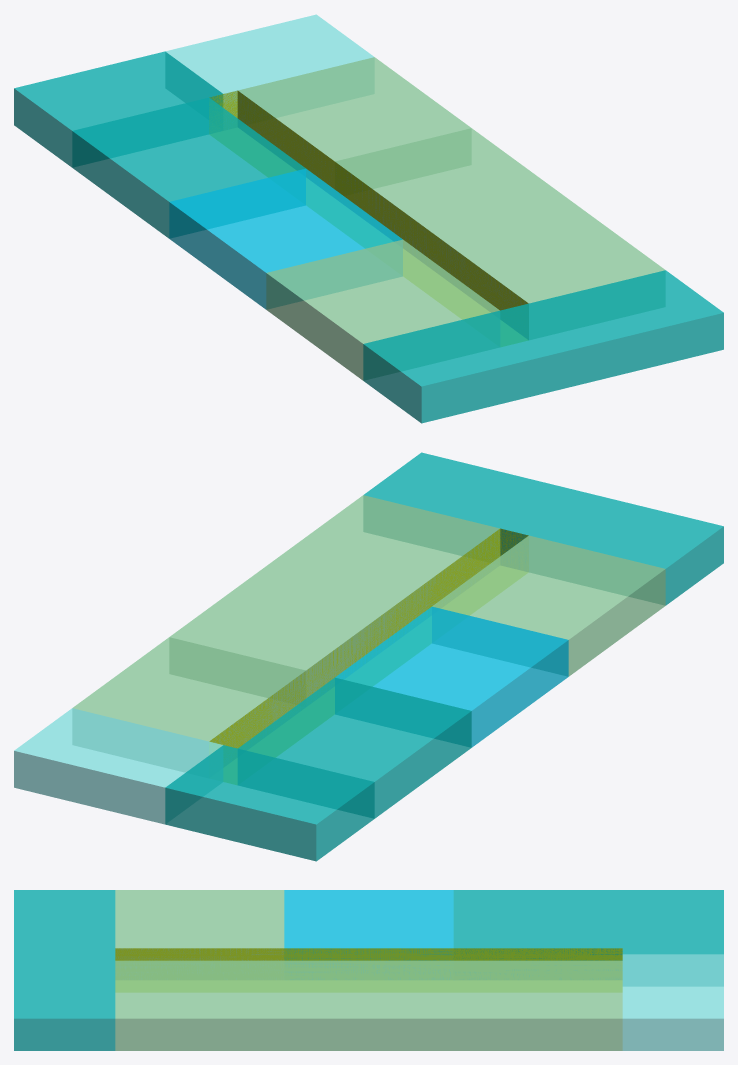
3 views of the same model, one above another, from view 1: azimuth 30°, elevation 25°; view 2: azimuth 150°, elevation 25°; view 3: azimuth 270°, elevation 25° (orthographic). The views are drawn at different scales.
Visible parts, largest first — view 1: Mesh (×9); view 2: Mesh (×9); view 3: Mesh (×9).
Boxes of the visible parts, x1,y1,x2,y2 form: Mesh (×9): (14,14,723,423); Mesh (×9): (14,452,723,861); Mesh (×9): (14,890,723,1050).
Size of the model in its own units: 30000 by 3500 by 70000.
